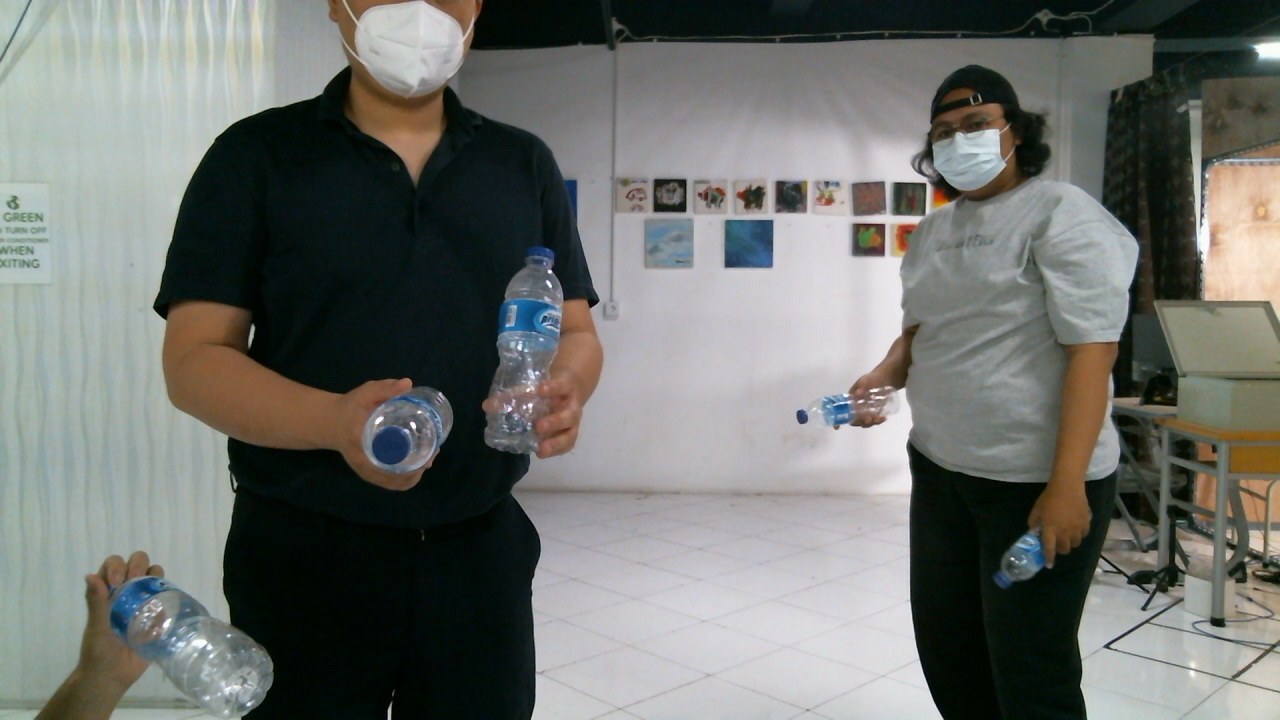Bottle: (114, 577, 273, 715), (483, 248, 565, 453), (794, 384, 902, 434), (996, 526, 1043, 588)
